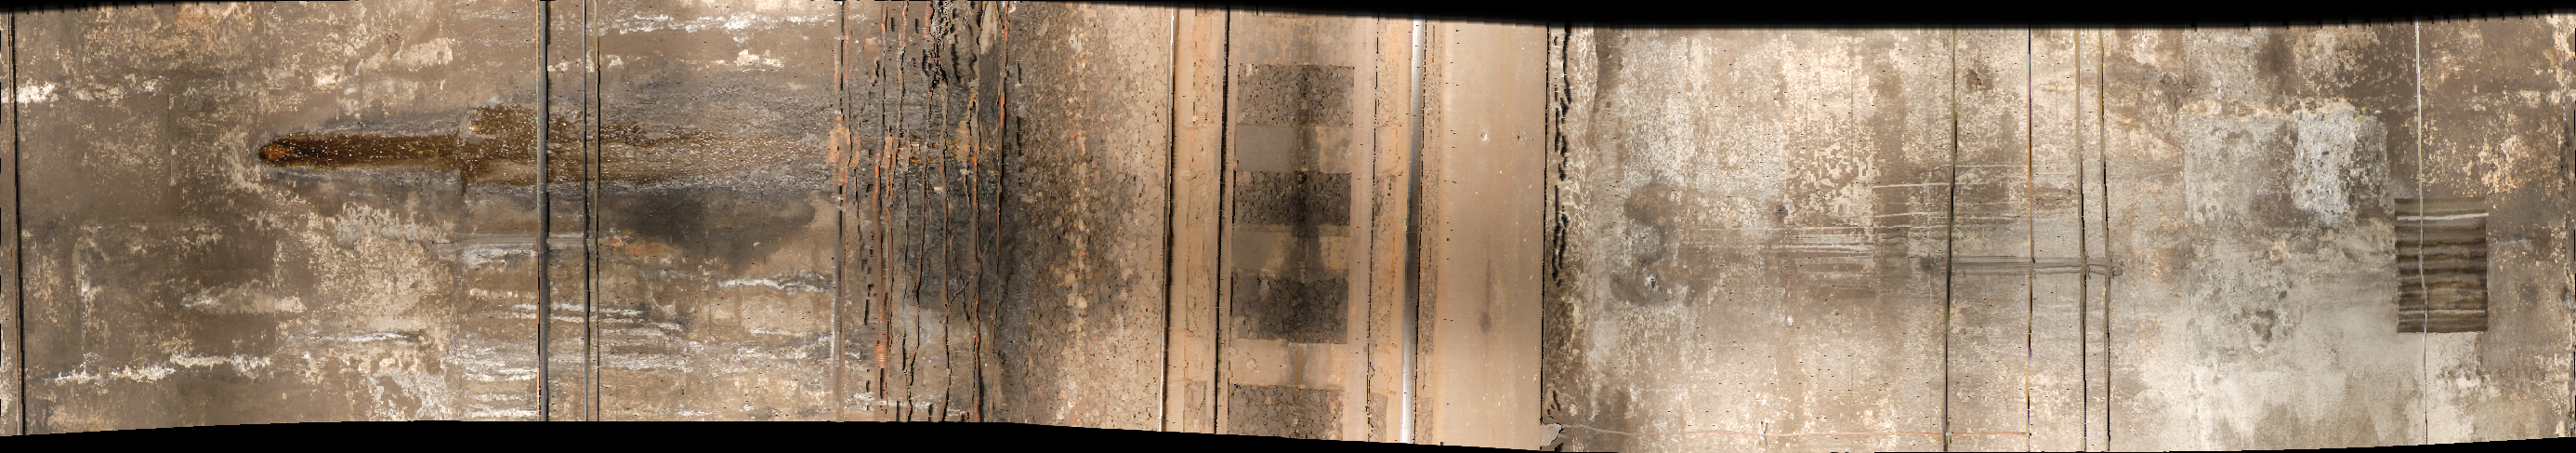pipes: (830, 3, 1020, 453), (527, 2, 611, 430), (2068, 28, 2127, 453), (2012, 38, 2050, 453), (1929, 36, 1965, 453)
tracks: (1163, 8, 1441, 453)
